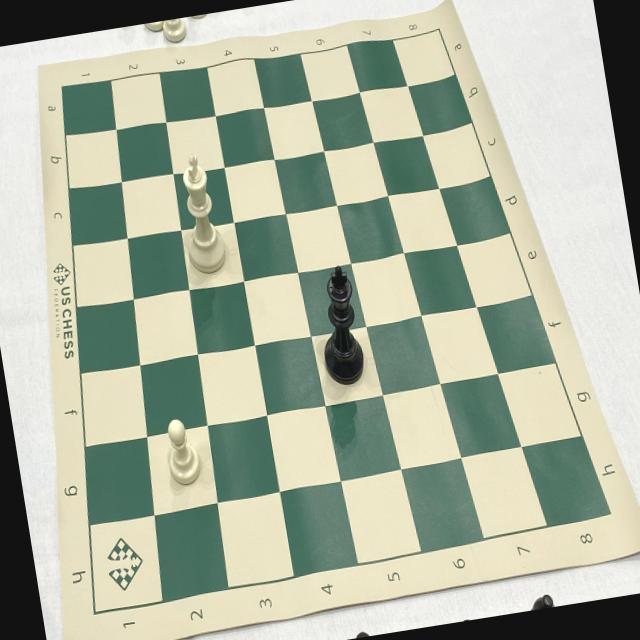black-king: (306, 256, 374, 392)
white-king: (170, 150, 231, 280)
white-pawn: (158, 412, 206, 492)
